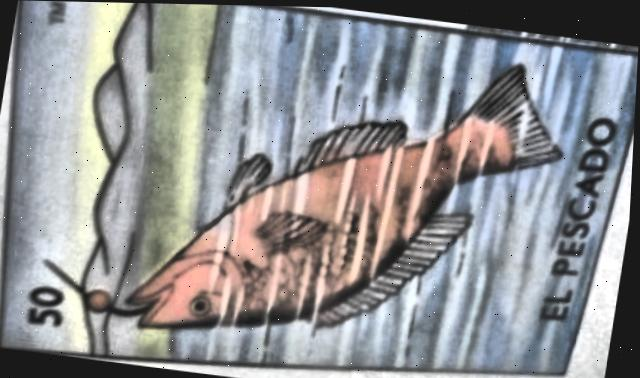El Pescado: (0, 0, 638, 372)
